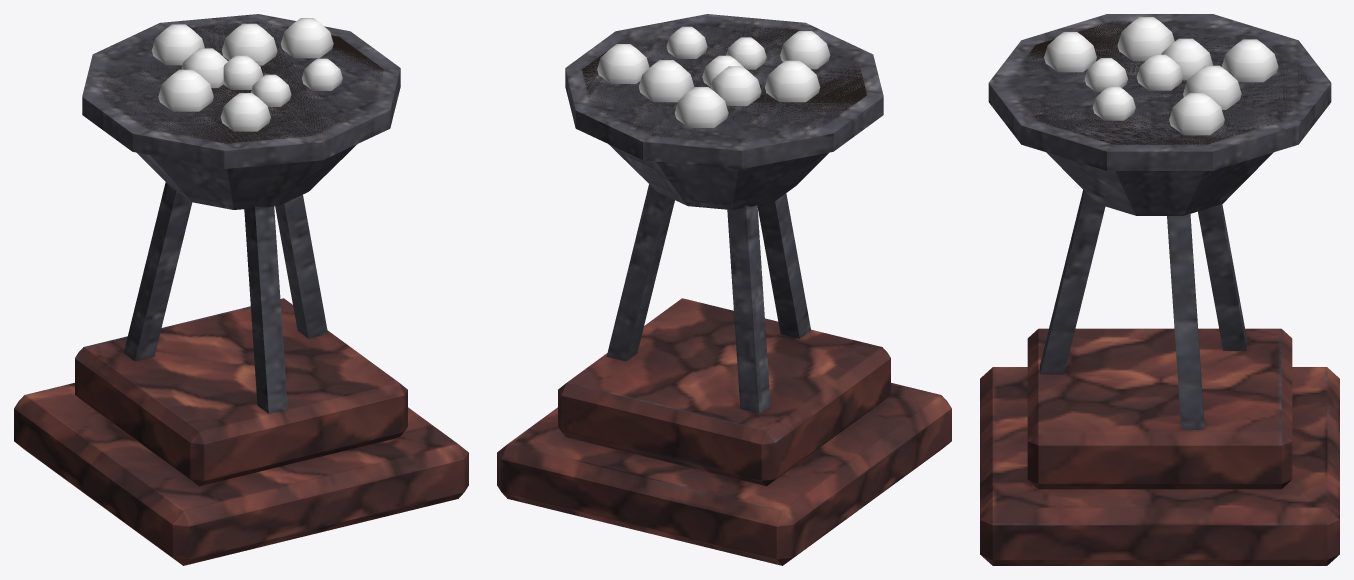
The model's file is mapkit_set_magma.fbx.
3 views of the same model, side by side, from view 1: azimuth 30°, elevation 25°; view 2: azimuth 150°, elevation 25°; view 3: azimuth 270°, elevation 25° (orthographic). The views are drawn at different scales.
Visible parts, largest first — view 1: Body, c_255_115_31; view 2: Body, c_255_115_31; view 3: Body, c_255_115_31.
Part boxes in pixels (x1=…): Body: x1=14, y1=14, x2=468, y2=565; c_255_115_31: x1=152, y1=18, x2=342, y2=131; Body: x1=497, y1=14, x2=951, y2=565; c_255_115_31: x1=597, y1=26, x2=830, y2=127; Body: x1=980, y1=14, x2=1339, y2=565; c_255_115_31: x1=1044, y1=17, x2=1278, y2=135.
Bounding box in the file's own units: 340 × 464 × 340.
1 material, 1 textured.
